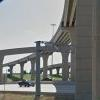Bridge: (12, 1, 77, 68)
